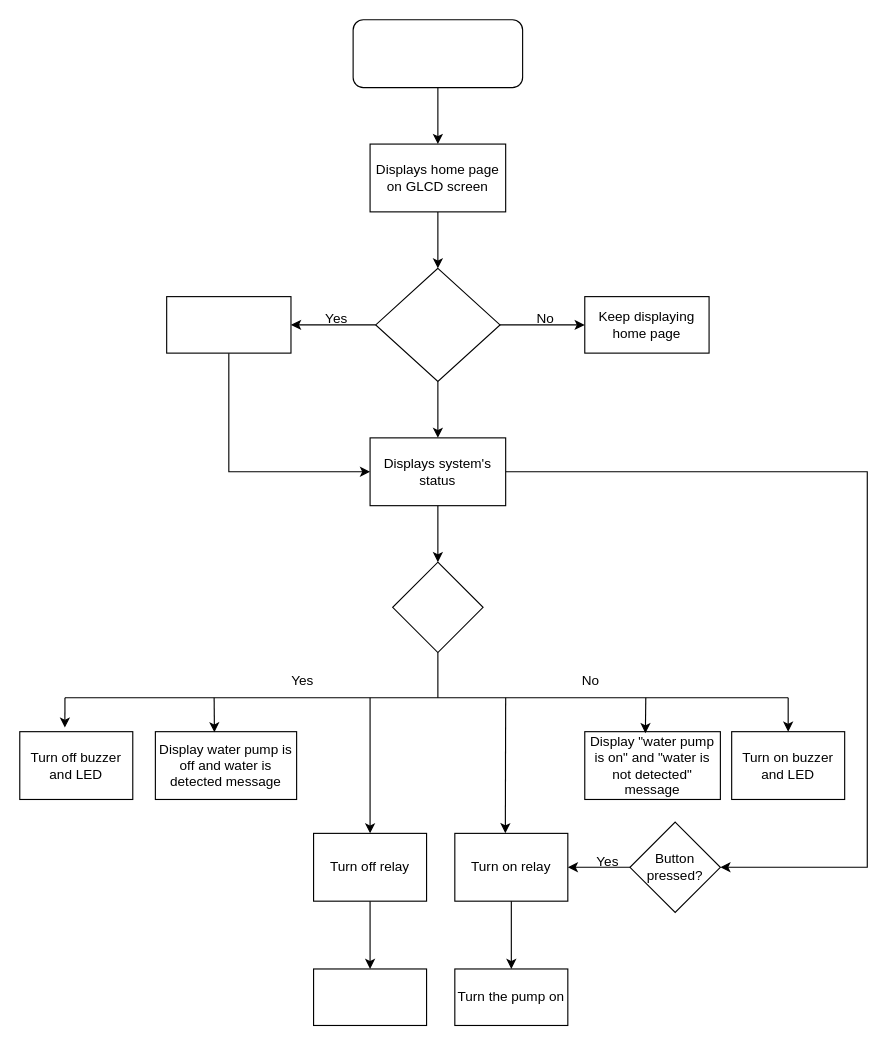
The diagram is 896 pixels wide and 1045 high, and some of its shapes have lost their labels. The shapes that lost their labels are listed below. From the top down, each one's centre as x and y in pixels, then its label:
At point 437,53: "Start".
At point 228,324: "Switch to diagnostic page".
At point 437,324: "Touch detected?".
At point 437,607: "Is water detected?".
At point 369,996: "Turn the pump off".
